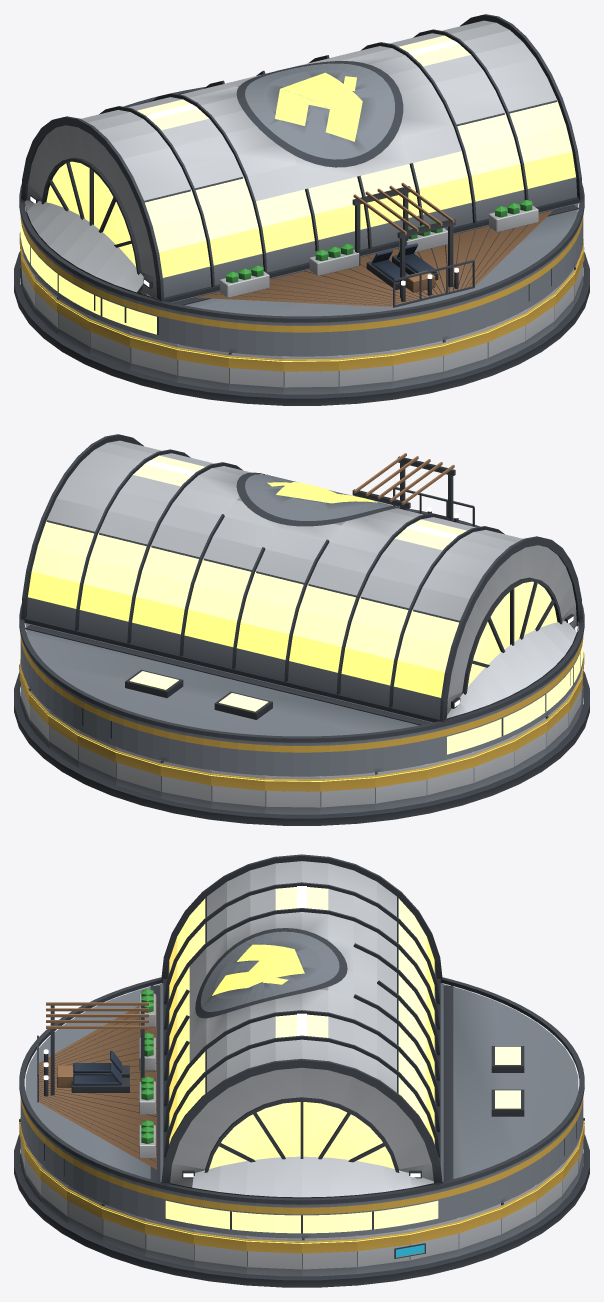
File: residence_tube_executive_m.glb
3 views of the same model, one above another, from view 1: azimuth 30°, elevation 25°; view 2: azimuth 150°, elevation 25°; view 3: azimuth 270°, elevation 25° (orthographic).
Parts seen in each view (by area): view 1: Roof, PorchTop, Base, Wall_21, Wall_20, Wall_22, Wall_19, Wall_23, Upper_21, Upper_20, Upper_22, Wall_18 (+18 smaller); view 2: Roof, Base, PorchTop, Wall_10, Wall_11, Wall_09, Wall_12, Wall_08, Upper_10, Upper_11, Upper_09, Wall_13 (+18 smaller); view 3: Roof, PorchTop, Base, Wall_00, Wall_31, Wall_30, Wall_29, Wall_01, Upper_31, Upper_00, Upper_01, Upper_30 (+17 smaller).
Boxes of the visible parts, x1=… form: Roof: x1=19, y1=14, x2=584, y2=322; PorchTop: x1=30, y1=40, x2=552, y2=307; Base: x1=14, y1=251, x2=589, y2=405; Wall_21: x1=283, y1=355, x2=338, y2=394; Wall_20: x1=228, y1=352, x2=283, y2=394; Wall_22: x1=338, y1=350, x2=392, y2=393; Wall_19: x1=177, y1=344, x2=228, y2=390; Wall_23: x1=392, y1=340, x2=443, y2=388; Upper_21: x1=283, y1=321, x2=338, y2=356; Upper_20: x1=229, y1=318, x2=283, y2=356; Upper_22: x1=338, y1=316, x2=392, y2=355; Wall_18: x1=129, y1=331, x2=177, y2=382; Roof: x1=19, y1=434, x2=584, y2=742; Base: x1=14, y1=671, x2=589, y2=825; PorchTop: x1=145, y1=453, x2=573, y2=706; Wall_10: x1=265, y1=775, x2=320, y2=814; Wall_11: x1=320, y1=772, x2=375, y2=814; Wall_09: x1=211, y1=770, x2=265, y2=813; Wall_12: x1=375, y1=764, x2=426, y2=810; Wall_08: x1=160, y1=760, x2=211, y2=808; Upper_10: x1=265, y1=741, x2=320, y2=776; Upper_11: x1=320, y1=738, x2=374, y2=776; Upper_09: x1=211, y1=736, x2=265, y2=775; Wall_13: x1=426, y1=751, x2=474, y2=802; Roof: x1=19, y1=854, x2=584, y2=1204; PorchTop: x1=37, y1=886, x2=420, y2=1177; Base: x1=14, y1=1134, x2=589, y2=1287; Wall_00: x1=302, y1=1235, x2=357, y2=1276; Wall_31: x1=246, y1=1235, x2=301, y2=1276; Wall_30: x1=193, y1=1229, x2=246, y2=1274; Wall_29: x1=145, y1=1218, x2=194, y2=1266; Wall_01: x1=357, y1=1229, x2=410, y2=1274; Upper_31: x1=247, y1=1202, x2=301, y2=1238; Upper_00: x1=302, y1=1202, x2=356, y2=1238; Upper_01: x1=357, y1=1195, x2=409, y2=1235; Upper_30: x1=194, y1=1195, x2=246, y2=1235.
Size of the model in its own units: 17.76 by 7.1 by 17.76.
